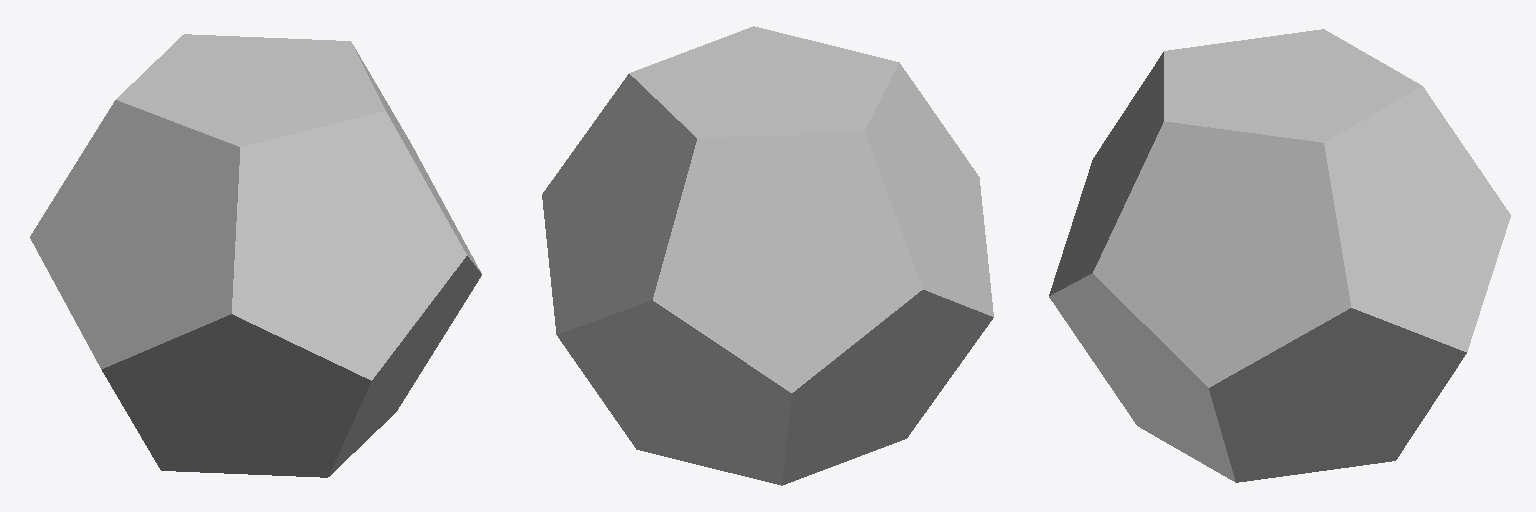
Rendered from Dodecahedron_MIP_36h12.obj.
The picture shows the model from 3 angles: view 1: azimuth 30°, elevation 25°; view 2: azimuth 150°, elevation 25°; view 3: azimuth 270°, elevation 25°; orthographic projection.
Parts seen in each view (by area): view 1: Solid; view 2: Solid; view 3: Solid.
Boxes of the visible parts, x1=… form: Solid: x1=30, y1=34, x2=481, y2=477; Solid: x1=542, y1=26, x2=993, y2=485; Solid: x1=1049, y1=29, x2=1510, y2=482.
Size of the model in its own units: 0.5241 by 0.4471 by 0.5504.